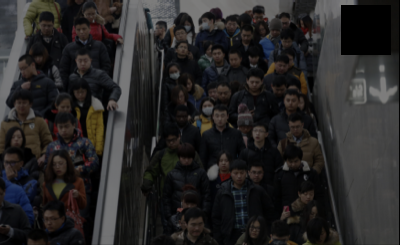with_mask: (202, 102, 215, 114), (169, 68, 180, 78), (202, 18, 211, 28), (184, 21, 192, 32)
without_mask: (188, 219, 205, 236), (43, 214, 61, 230), (57, 122, 74, 138), (3, 157, 19, 173), (52, 159, 67, 175), (15, 99, 30, 114), (165, 135, 180, 149), (214, 111, 228, 126), (10, 133, 24, 147), (77, 56, 91, 70), (76, 25, 90, 39), (232, 169, 246, 183), (252, 127, 266, 141), (217, 89, 231, 102), (250, 168, 263, 182), (300, 190, 314, 203), (313, 230, 327, 243), (19, 64, 32, 77), (285, 96, 298, 109), (290, 123, 303, 136), (249, 223, 261, 237), (286, 158, 301, 169), (74, 88, 87, 100), (176, 113, 188, 126), (248, 79, 261, 91), (219, 157, 230, 171), (41, 22, 53, 34), (212, 50, 224, 62), (229, 55, 241, 67), (84, 10, 97, 21), (180, 155, 193, 166), (58, 102, 72, 112), (183, 200, 197, 210), (275, 62, 289, 72), (175, 29, 187, 40), (273, 86, 286, 96), (177, 43, 188, 54), (208, 88, 218, 100), (240, 123, 252, 133), (227, 21, 237, 32), (241, 32, 252, 42), (176, 92, 185, 104), (281, 38, 293, 47), (33, 54, 44, 63), (249, 54, 259, 63), (185, 80, 193, 91), (281, 19, 290, 28), (298, 99, 305, 110), (254, 13, 263, 21), (309, 210, 318, 218), (154, 25, 161, 35), (259, 25, 266, 35), (270, 28, 280, 35), (181, 218, 187, 229), (206, 46, 213, 55), (289, 56, 294, 67), (300, 21, 307, 28)
